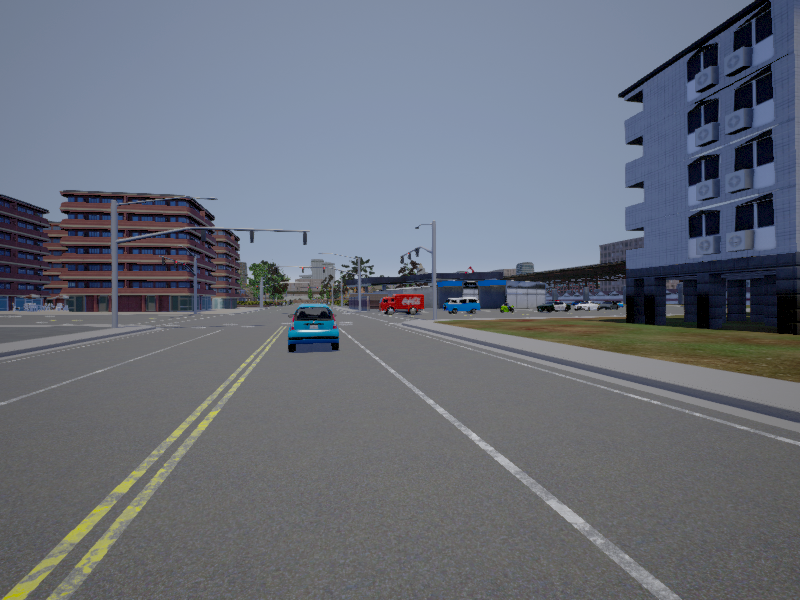Benign: (289, 304, 341, 351), (379, 294, 423, 316), (444, 297, 479, 314), (538, 301, 573, 313)
